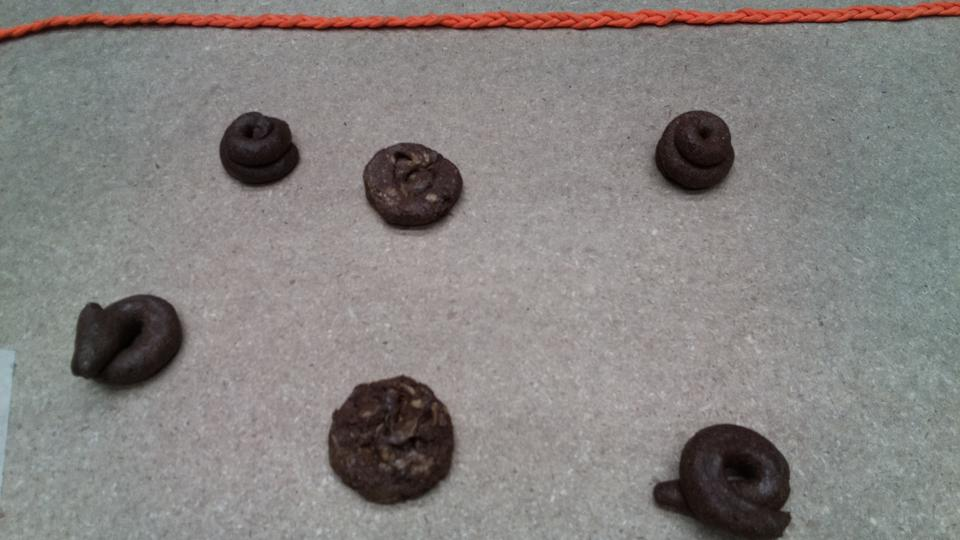poop: (331, 377, 454, 503), (656, 427, 794, 537), (77, 296, 182, 384), (365, 144, 463, 228), (656, 111, 736, 191), (221, 113, 298, 183)
rope: (147, 14, 669, 27), (741, 9, 863, 23), (870, 6, 953, 20), (58, 14, 153, 26), (640, 13, 743, 23), (1, 18, 51, 38)
